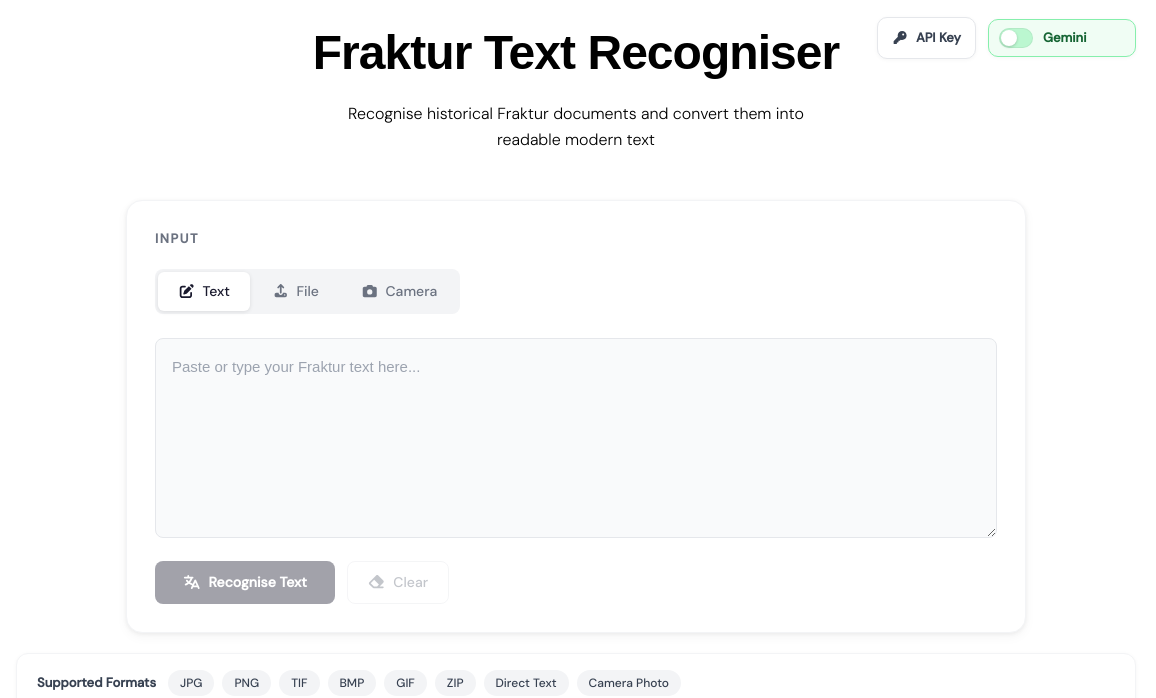
it: TranslatorPage › switches back to Gemini engine on second toggle click
The image size is (1156, 698).
Click the switch named "OCR engine is Gemini".
click(1062, 38)  # box [988,19,1136,57]
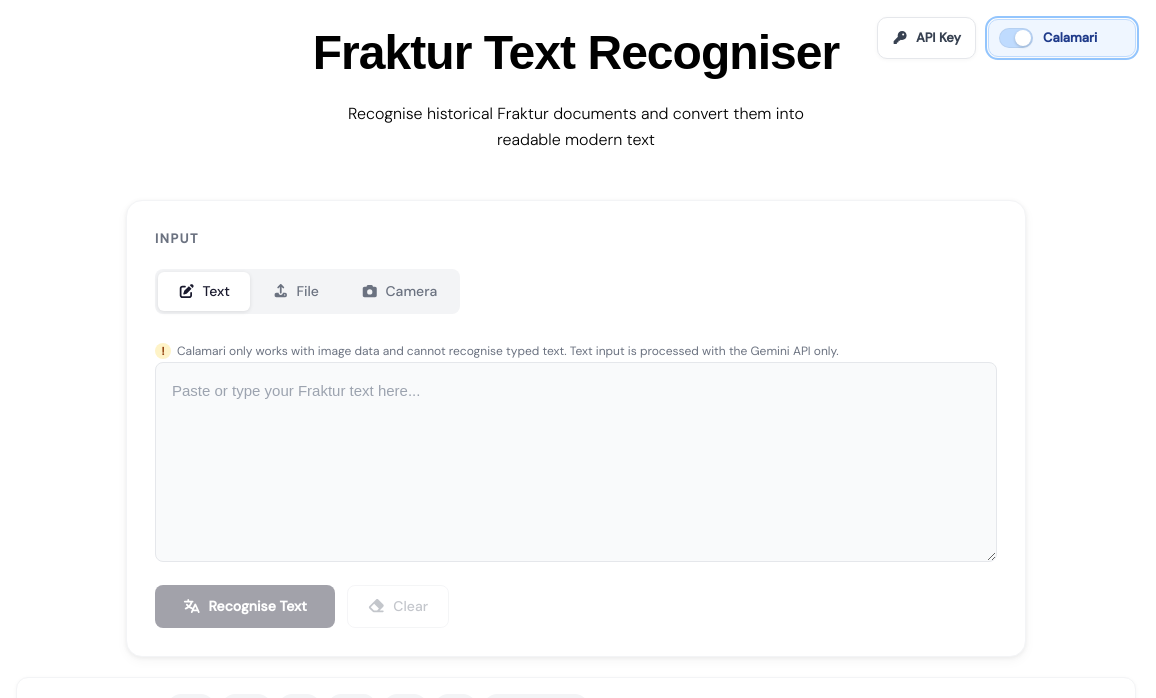
Click the switch named "OCR engine is Calamari".
click(1062, 38)  # box [988,19,1136,57]
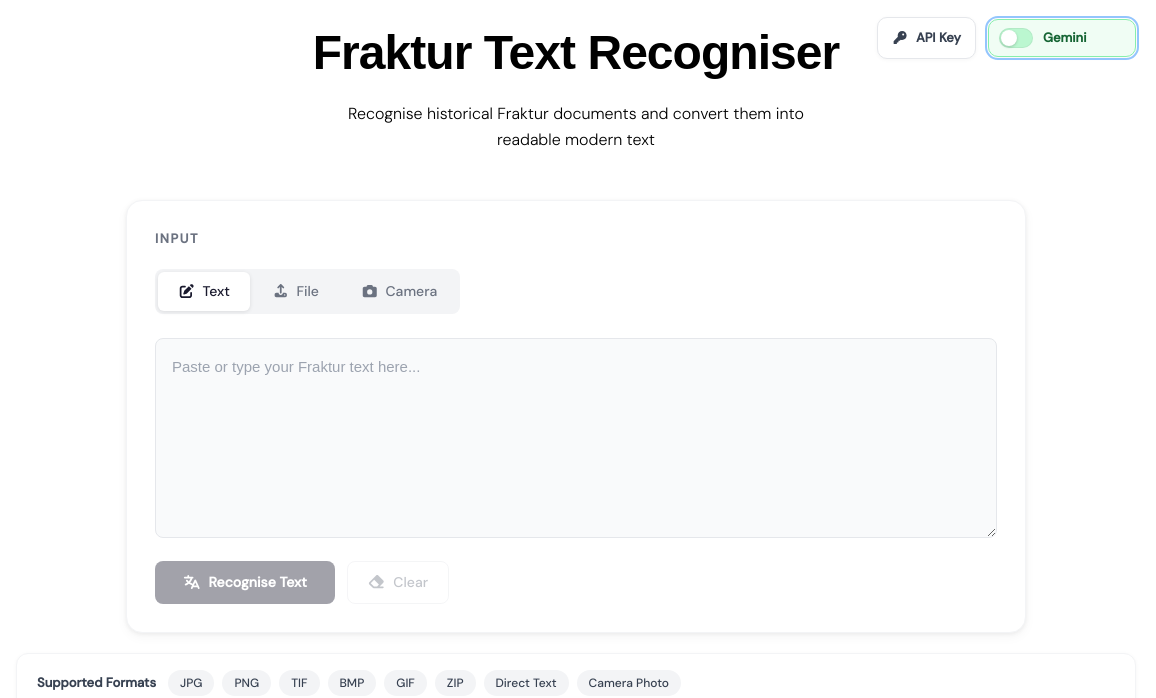
Result: the switch named "OCR engine is Gemini" is shown at [988,19,1136,57]
